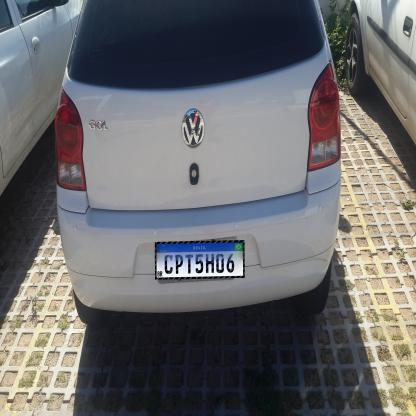PlacaM: (155, 240, 245, 280)
